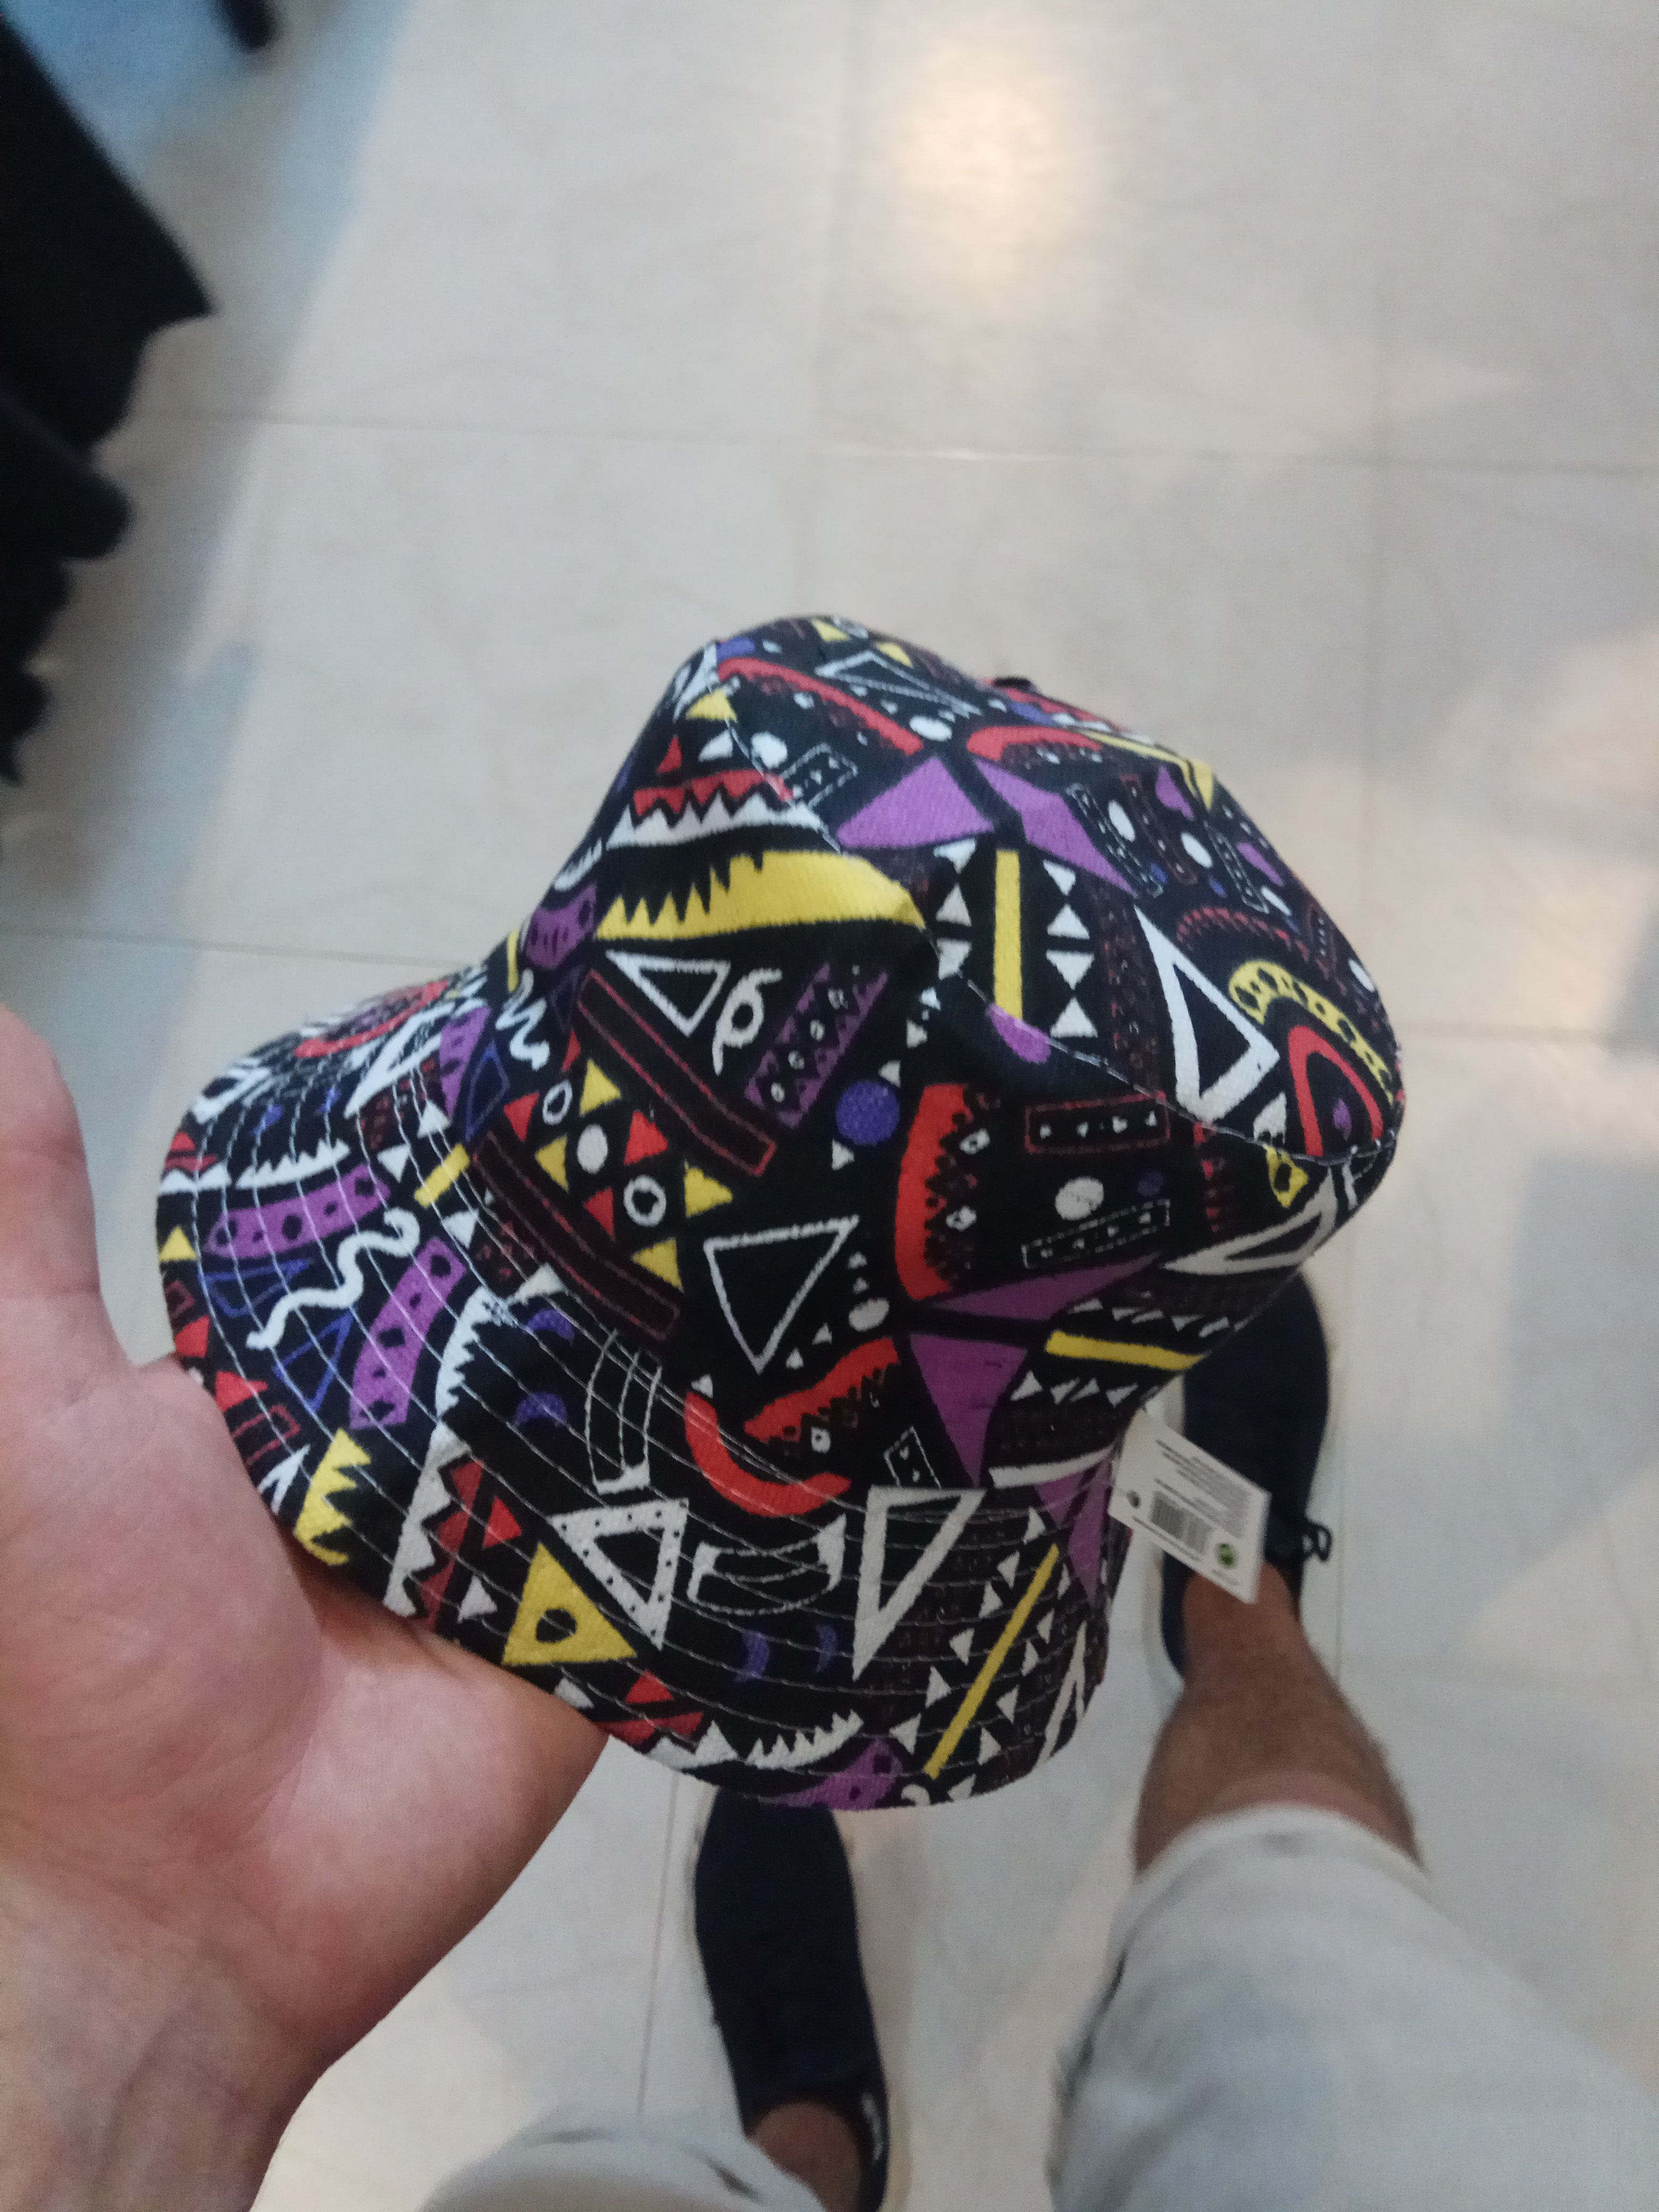clothes: (146, 559, 1445, 1824)
